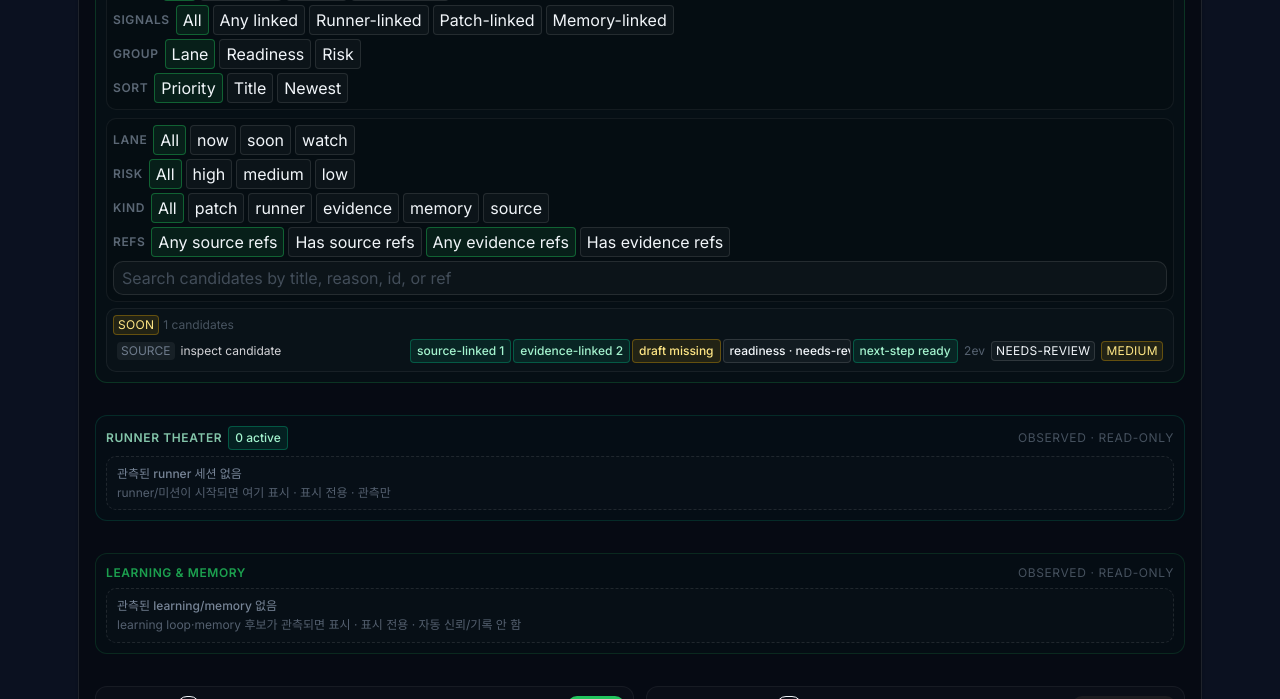
Test case: E6 — WorkItem Candidate detail / link graph › opens via keyboard activation and closes locally
(page scrolled)
Press Enter in the button with test id "wic-row-wic-detail-1", box [113,336,1167,364]
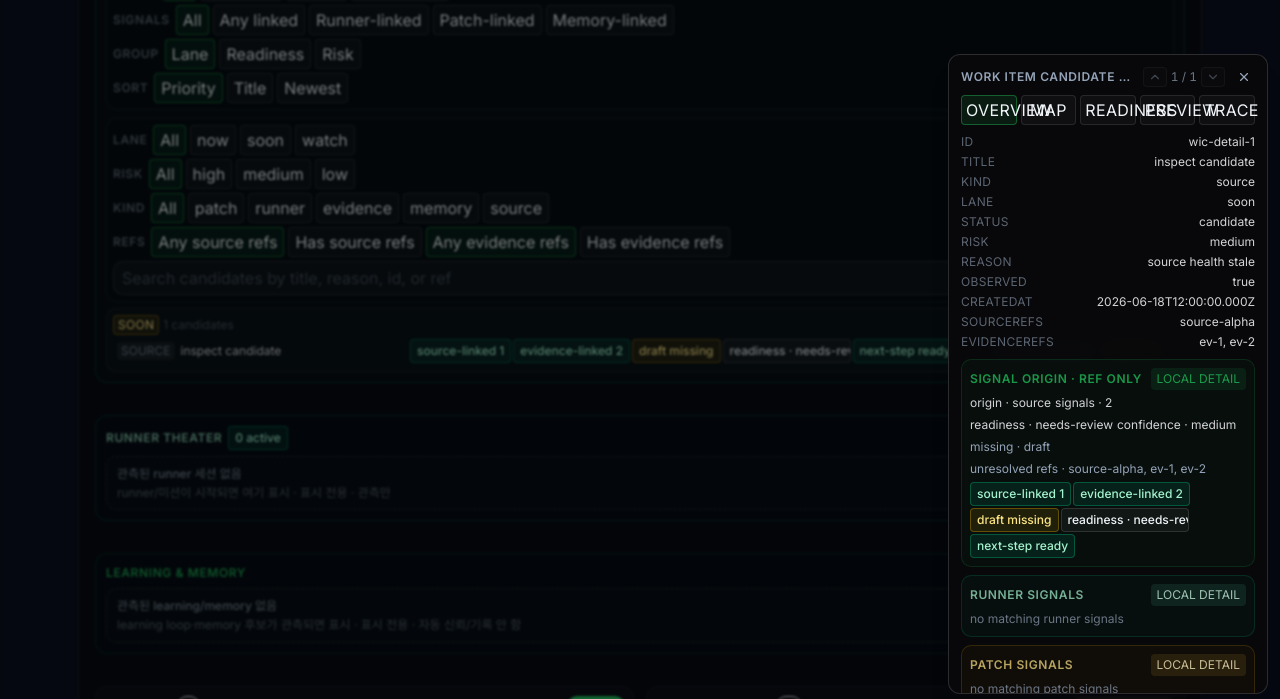
Expected: the dialog with test id "work-item-candidate-detail-drawer" is shown, [948,54,1268,694]
Click the button with test id "wic-detail-close" at (1244, 77), box [1237,70,1251,84]
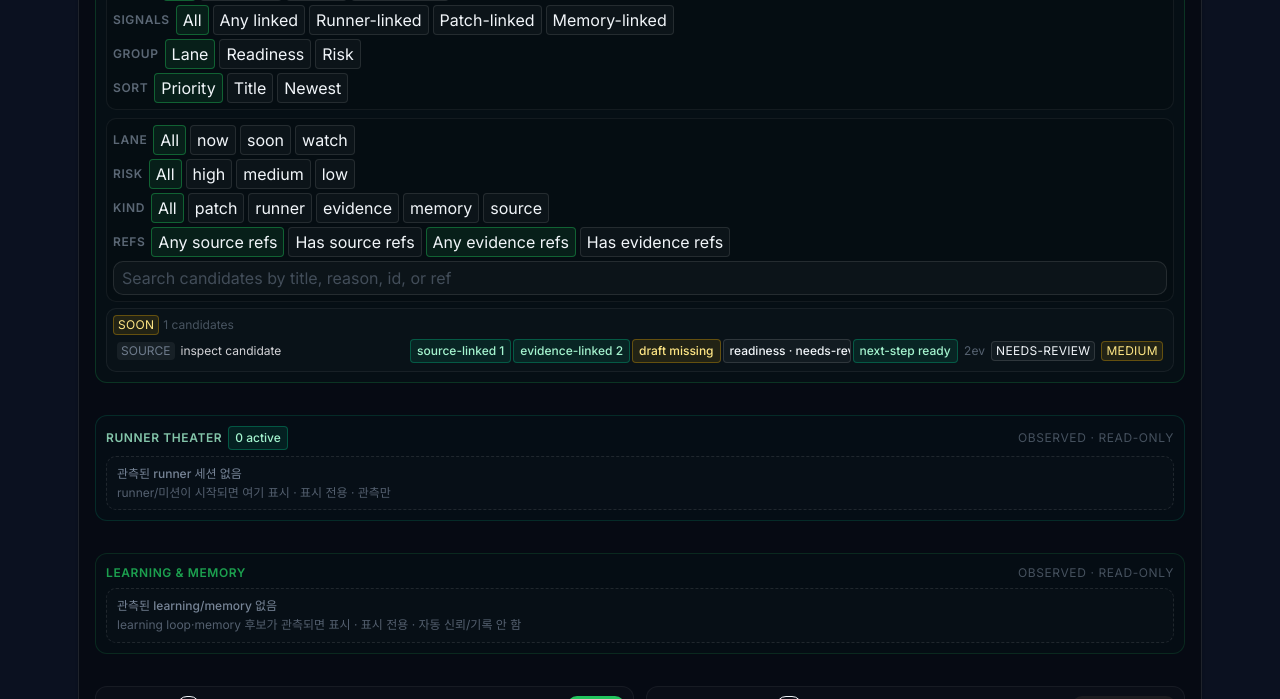
Expected: the dialog with test id "work-item-candidate-detail-drawer" is gone
Press Space in the button with test id "wic-row-wic-detail-1", box [113,336,1167,364]
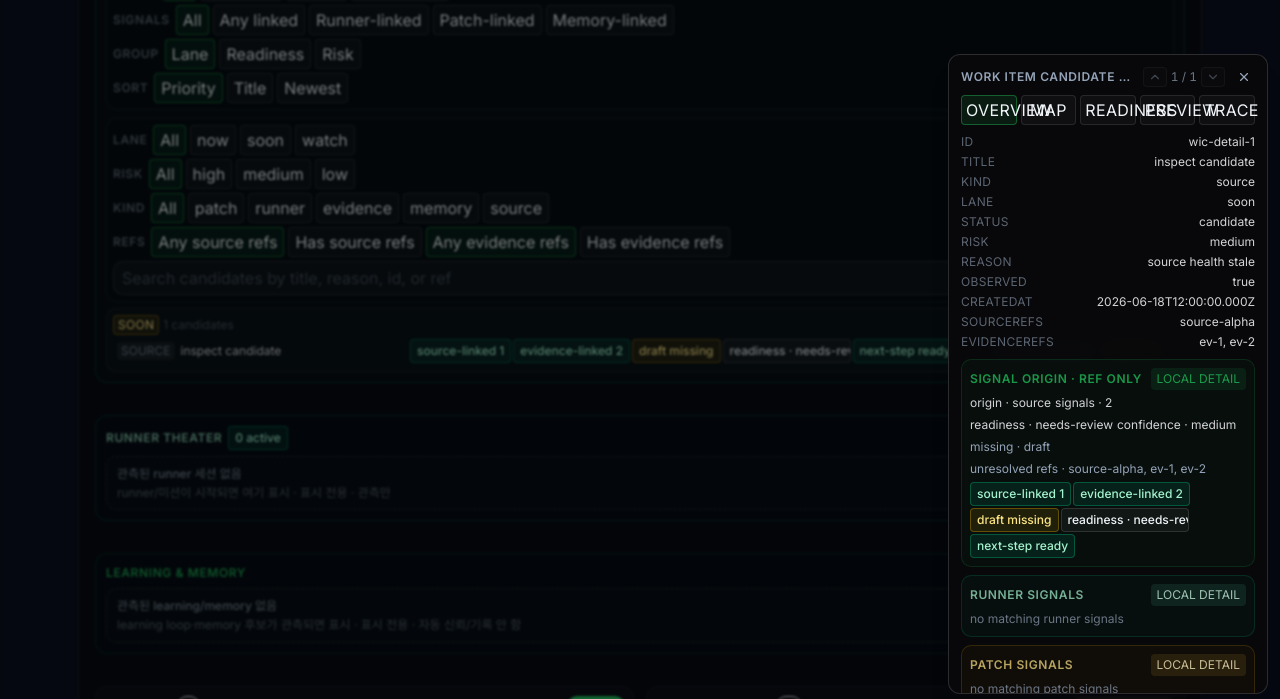
Expected: the dialog with test id "work-item-candidate-detail-drawer" is shown, [948,54,1268,694]
Press Escape
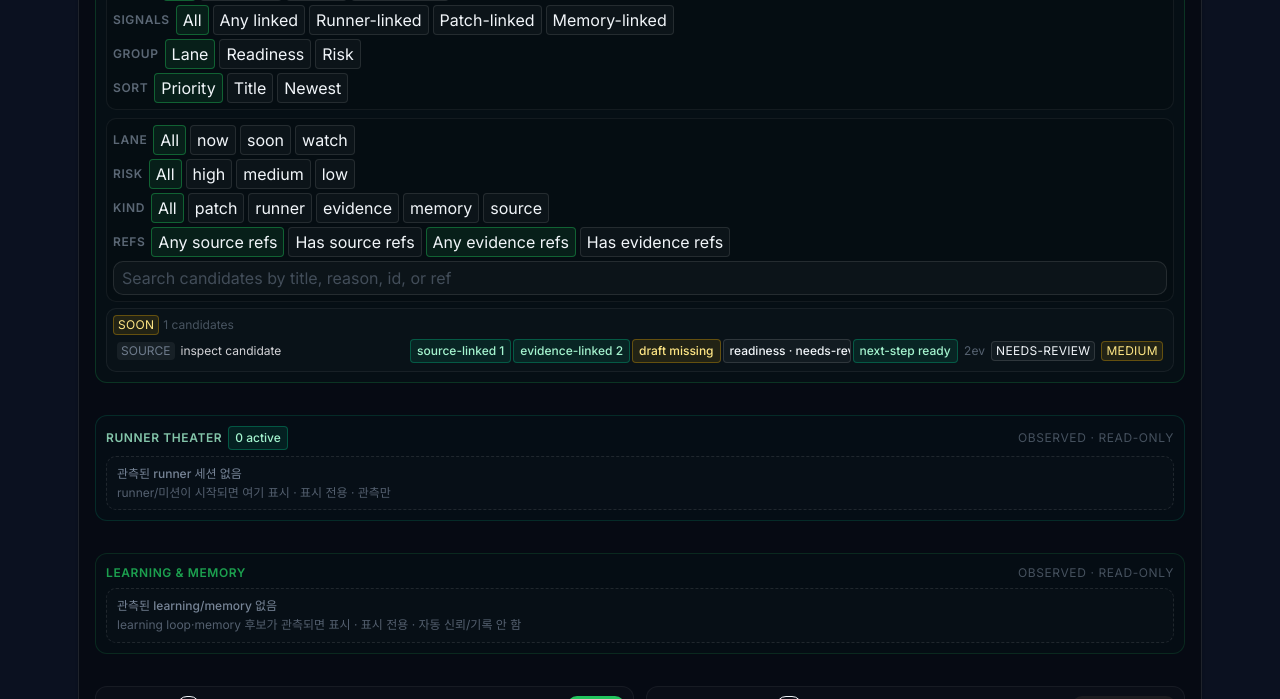
Expected: the dialog with test id "work-item-candidate-detail-drawer" is gone
